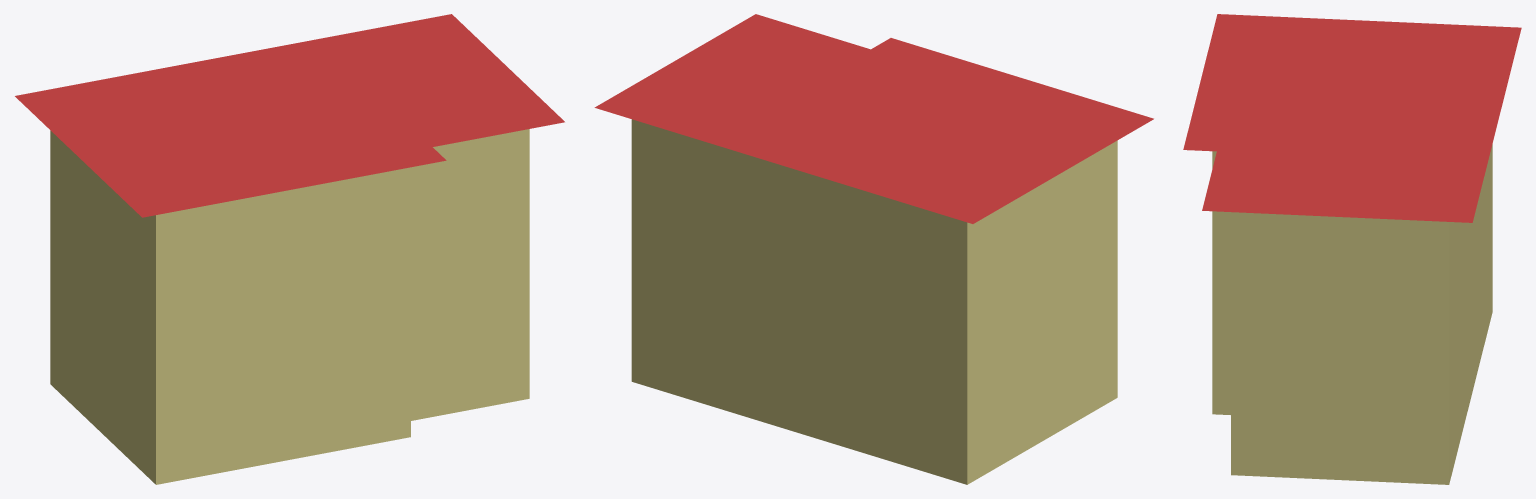
The picture shows the model from 3 angles, left to right: view 1: azimuth 30°, elevation 25°; view 2: azimuth 150°, elevation 25°; view 3: azimuth 270°, elevation 25°; orthographic projection. The views are drawn at different scales.
Bounding box in the file's own units: 9.38 × 6.42 × 5.74.
